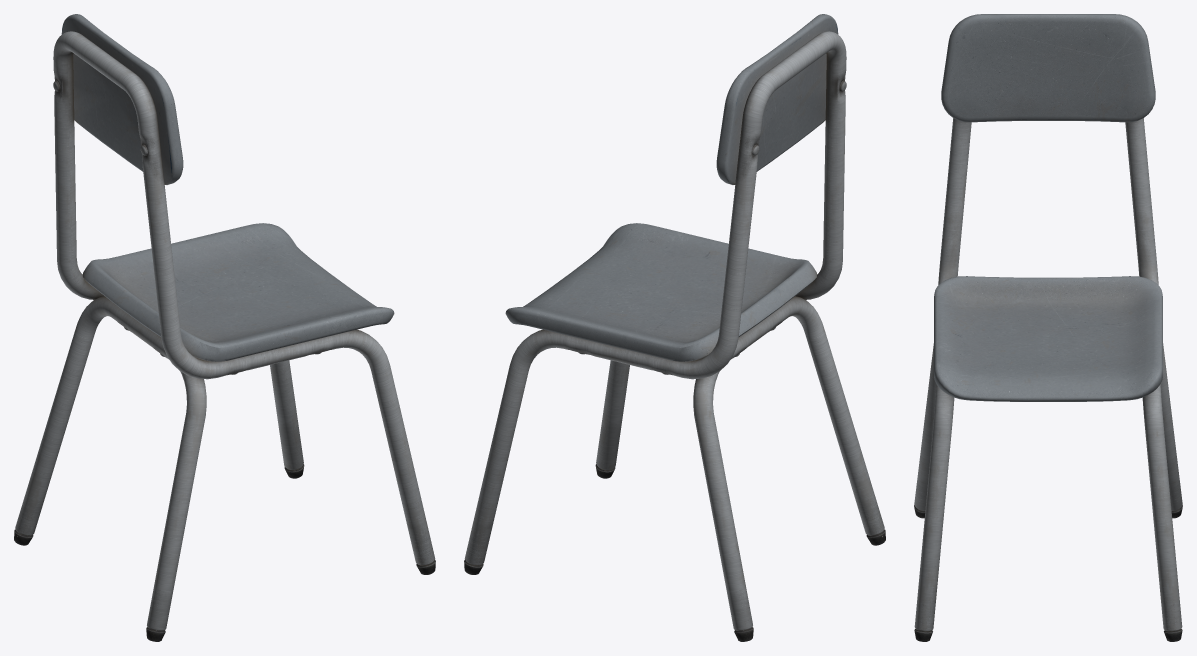
File: Chair_Wooden_01.obj
3 views of the same model, side by side, from view 1: azimuth 30°, elevation 25°; view 2: azimuth 150°, elevation 25°; view 3: azimuth 270°, elevation 25° (orthographic). The views are drawn at different scales.
Visible parts, largest first — view 1: SM_Furniture_Chair_Wooden; view 2: SM_Furniture_Chair_Wooden; view 3: SM_Furniture_Chair_Wooden.
Boxes of the visible parts, left/top/right/bottom form: SM_Furniture_Chair_Wooden: left=14, top=14, right=435, bottom=641; SM_Furniture_Chair_Wooden: left=464, top=14, right=885, bottom=641; SM_Furniture_Chair_Wooden: left=914, top=14, right=1182, bottom=641.
Size of the model in its own units: 2155 by 3896 by 1845.
Materials: 1 (1 with a texture image).
